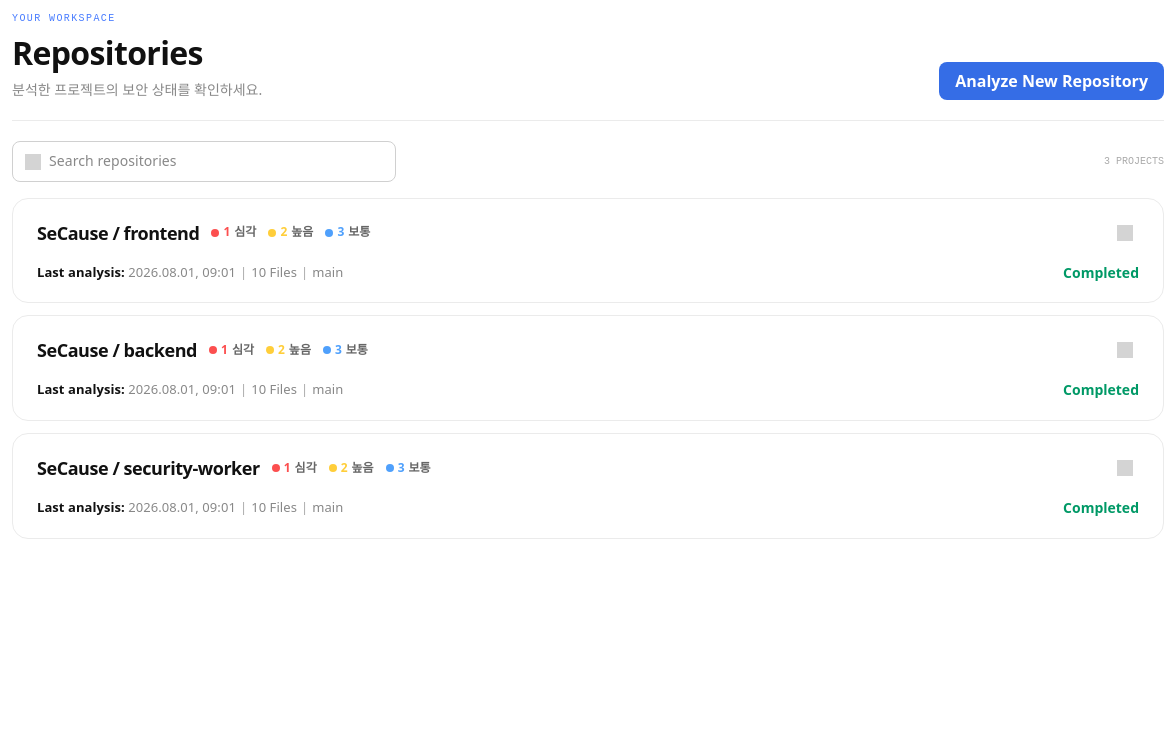
Test: RepositoriesTab › Given 분석 저장소 목록에서 When 이름을 검색하면 Then 일치하는 카드만 표시한다
The width and height of the screenshot is (1176, 732).
Type "security" into the field named "레포지토리 검색".
click(216, 162); type("security")  # box [49, 150, 383, 173]
Then press Enter
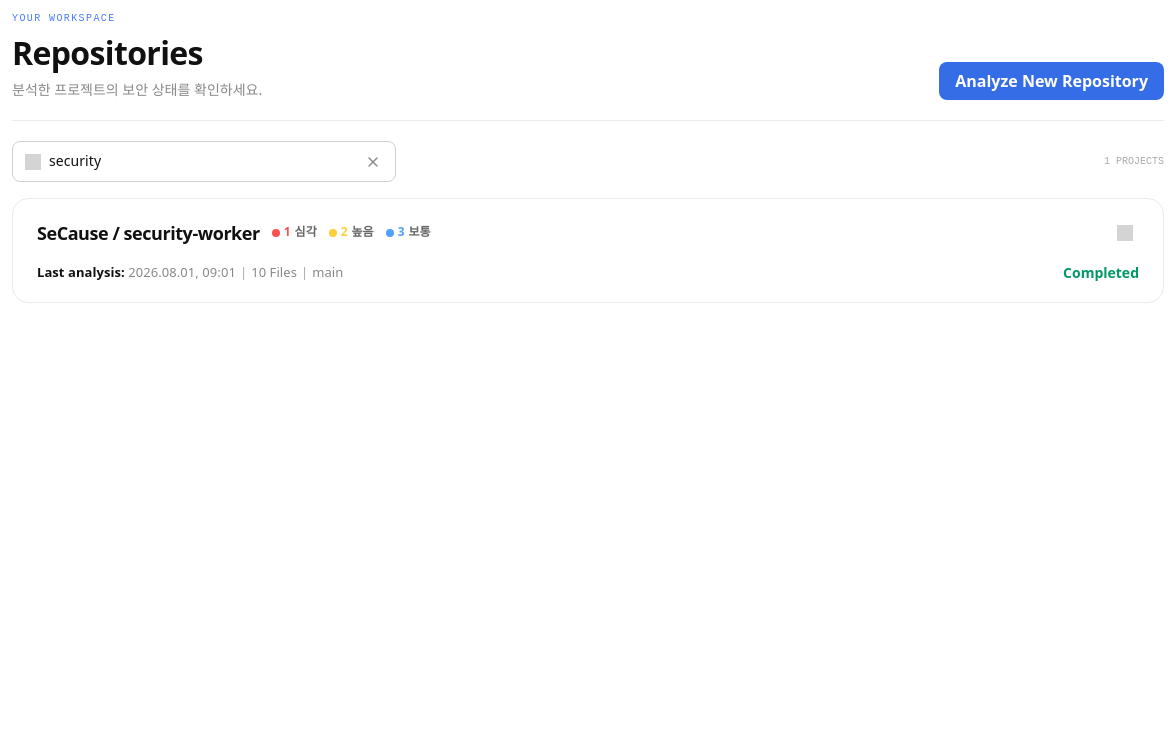
Expected: the text "SeCause / security-worker" is shown, [37, 219, 260, 247]
Expected: the text "SeCause / frontend" is gone
Expected: the text "SeCause / backend" is gone
